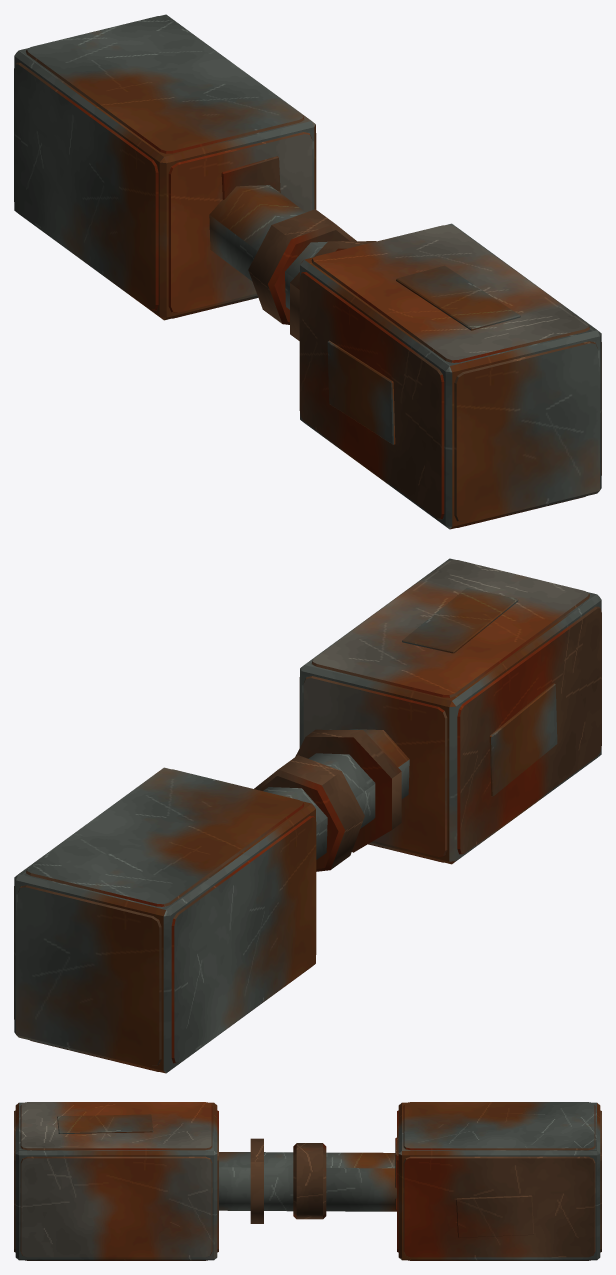
File: R4C_ROD_SHORT.glb
3 views of the same model, one above another, from view 1: azimuth 30°, elevation 25°; view 2: azimuth 150°, elevation 25°; view 3: azimuth 270°, elevation 25° (orthographic). The views are drawn at different scales.
Parts seen in each view (by area): view 1: R4C_ROD_SHORT; view 2: R4C_ROD_SHORT; view 3: R4C_ROD_SHORT.
Boxes of the visible parts, x1,y1,x2,y2 form: R4C_ROD_SHORT: (14, 14, 601, 529); R4C_ROD_SHORT: (14, 558, 601, 1073); R4C_ROD_SHORT: (14, 1102, 601, 1260).
Bounding box in the file's own units: 0.232 × 0.232 × 1.07.
4 materials, 4 textured.
